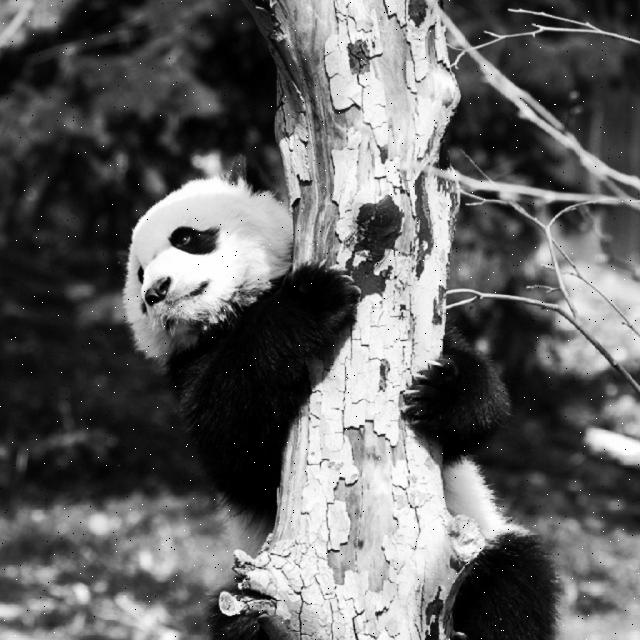panda: (120, 152, 560, 639)
